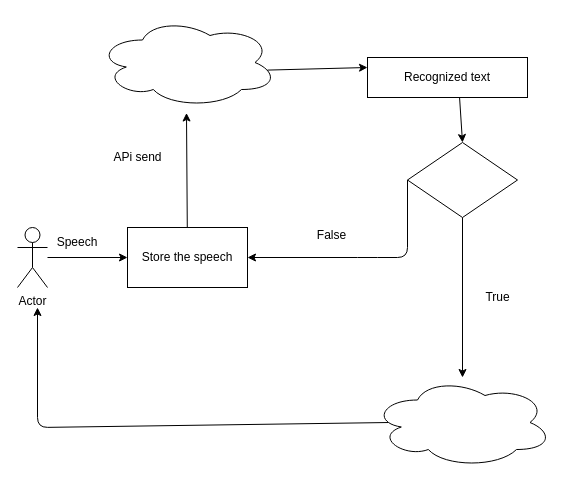
The diagram is 570 pixels wide and 485 high, and some of its shapes have lost their labels. The centre of each missing label's shape, as x and y in pixels:
"Speech_recognizer()API)" belongs at pixel 187 62.
"Translater" belongs at pixel 462 422.
